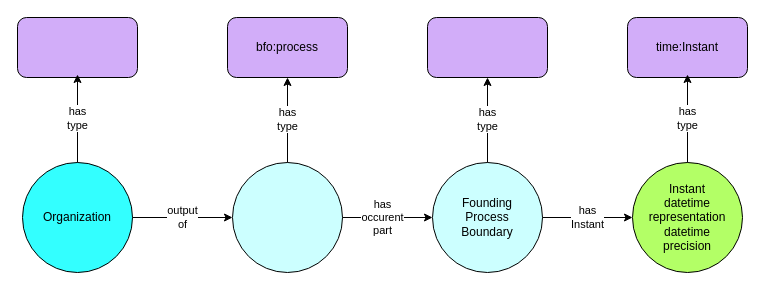
Image size: 765x290. Some labels were removed from this diagram. Here are the shapes that lost their labels. From the top down, the centre of each, then its label:
(77,47): org:Organization
(487,47): bfo:process boundary
(287,217): Founding Process
